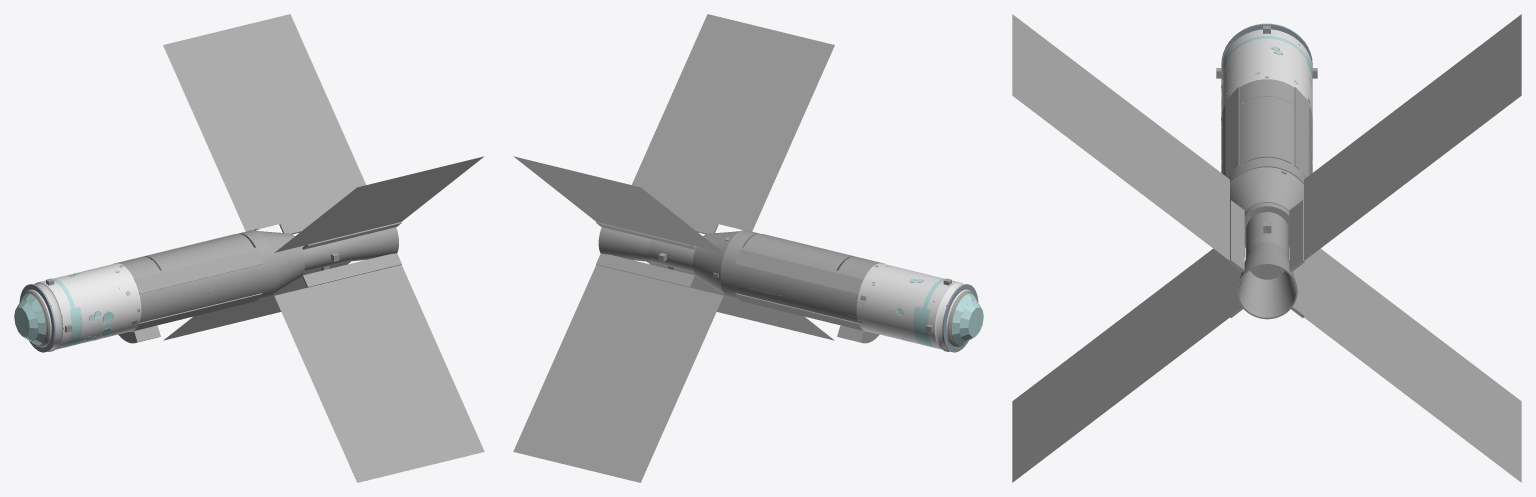
Rendered from wayfarer_full_radiator_states_88ce19fc_stowed_stowed.glb.
The picture shows the model from 3 angles, left to right: view 1: azimuth 30°, elevation 25°; view 2: azimuth 150°, elevation 25°; view 3: azimuth 270°, elevation 25°; orthographic projection. The views are drawn at different scales.
Visible parts, largest first — view 1: dry:hotfin_220:folded_envelope, dry:hotfin_40:folded_envelope, dry:hotfin_140:folded_envelope, dry:armor, dry:skin_midship, dry:hotfin_320:folded_envelope, dry:strake_140:stowed_stack, dry:thrust_cone, dry:skin_service, dry:door_port, dry:hotfin_root_220:root, dry:nozzle (+4 smaller); view 2: dry:hotfin_320:folded_envelope, dry:hotfin_140:folded_envelope, dry:hotfin_40:folded_envelope, dry:armor, dry:skin_midship, dry:hotfin_220:folded_envelope, dry:strake_40:stowed_stack, dry:skin_service, dry:thrust_cone, dry:door_starboard, dry:hotfin_root_320:root, dry:nozzle (+4 smaller); view 3: dry:hotfin_40:folded_envelope, dry:hotfin_140:folded_envelope, dry:hotfin_220:folded_envelope, dry:hotfin_320:folded_envelope, dry:armor, dry:nozzle, dry:thrust_cone, dry:reactor, dry:door_port, dry:door_starboard, dry:skin_service, dry:strake_40:stowed_stack (+7 smaller).
Boxes of the visible parts, x1,y1,x2,y2 form: dry:hotfin_220:folded_envelope: (274,264,484,482); dry:hotfin_40:folded_envelope: (163,14,365,231); dry:hotfin_140:folded_envelope: (274,156,484,252); dry:armor: (23,263,141,350); dry:skin_midship: (160,247,263,316); dry:hotfin_320:folded_envelope: (163,261,350,340); dry:strake_140:stowed_stack: (134,249,262,293); dry:thrust_cone: (258,231,304,293); dry:skin_service: (117,256,168,330); dry:door_port: (152,236,253,270); dry:hotfin_root_220:root: (302,253,401,287); dry:nozzle: (345,227,398,261); dry:hotfin_320:folded_envelope: (513,264,723,482); dry:hotfin_140:folded_envelope: (632,14,834,231); dry:hotfin_40:folded_envelope: (513,156,723,252); dry:armor: (856,263,974,350); dry:skin_midship: (734,247,837,316); dry:hotfin_220:folded_envelope: (647,261,834,340); dry:strake_40:stowed_stack: (735,249,863,293); dry:skin_service: (829,256,880,330); dry:thrust_cone: (693,231,739,293); dry:door_starboard: (744,236,845,270); dry:hotfin_root_320:root: (596,253,695,287); dry:nozzle: (598,227,652,262); dry:hotfin_40:folded_envelope: (1304,14,1521,260); dry:hotfin_140:folded_envelope: (1012,14,1229,260); dry:hotfin_220:folded_envelope: (1012,248,1229,482); dry:hotfin_320:folded_envelope: (1304,248,1521,482); dry:armor: (1221,29,1312,117); dry:nozzle: (1237,242,1297,319); dry:thrust_cone: (1230,167,1303,247); dry:reactor: (1245,212,1288,279); dry:door_port: (1242,97,1266,163); dry:door_starboard: (1267,97,1291,163); dry:skin_service: (1221,79,1312,135); dry:strake_40:stowed_stack: (1294,87,1308,177).
Bounding box in the file's own units: 54.5 × 42.11 × 50.18.
